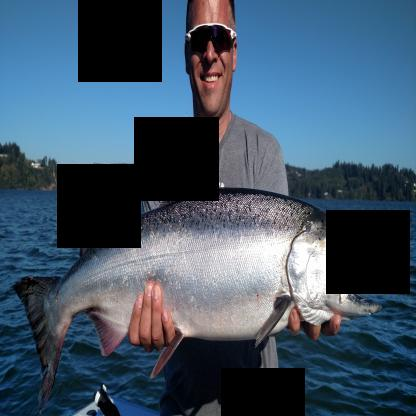fish: (14, 181, 382, 406)
